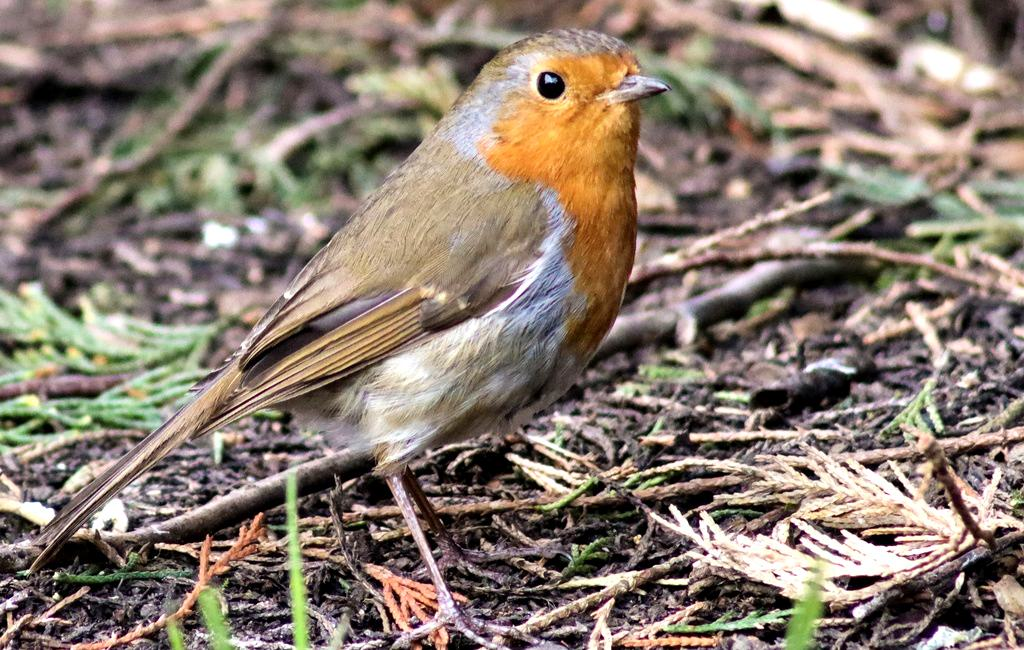ErithacusRubecula: (28, 28, 672, 649)
